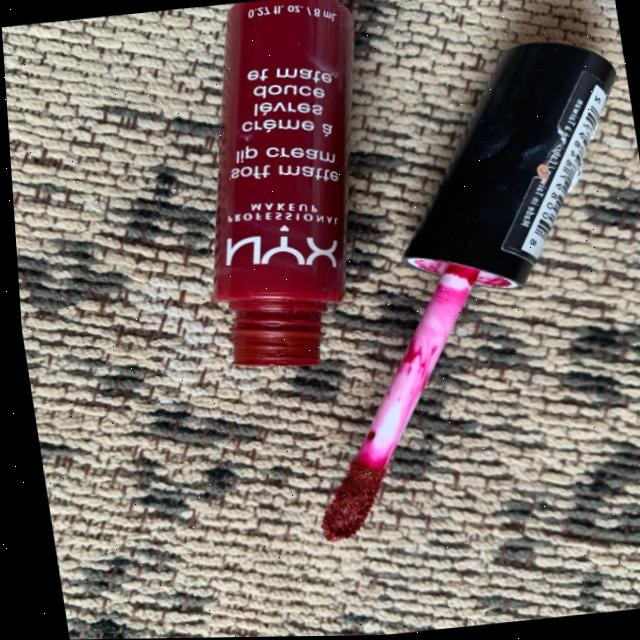lip gloss: (228, 2, 640, 555), (154, 0, 409, 391), (269, 407, 442, 570)
